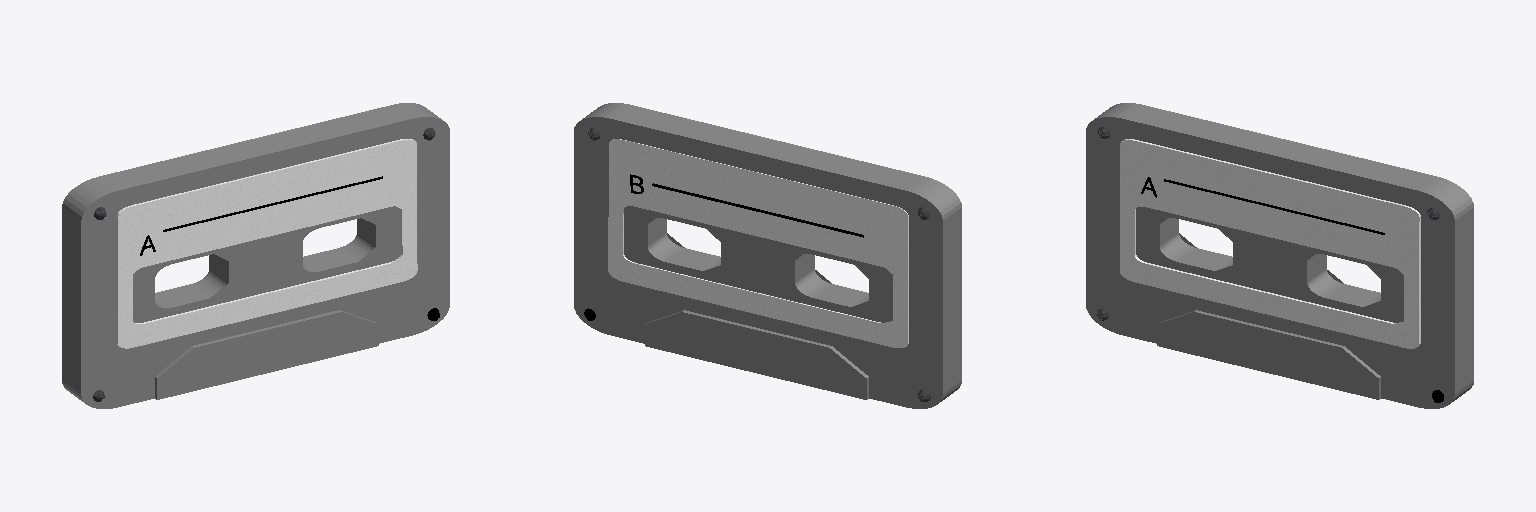
The picture shows the model from 3 angles: view 1: azimuth 30°, elevation 25°; view 2: azimuth 150°, elevation 25°; view 3: azimuth 330°, elevation 25°; orthographic projection.
Visible parts, largest first — view 1: 010_Box_1_-_baked, 004_Box_-_baked, 002_3D_Text_2_-_-_-_baked; view 2: 010_Box_1_-_baked, 005_Box_-_baked_1, 001_3D_Text_2_-_-_-_baked_1; view 3: 010_Box_1_-_baked, 004_Box_-_baked, 002_3D_Text_2_-_-_-_baked.
Part boxes in pixels (x1,y1,x2,y2): 010_Box_1_-_baked: (62, 103, 449, 408); 004_Box_-_baked: (117, 139, 417, 348); 002_3D_Text_2_-_-_-_baked: (163, 176, 382, 231); 010_Box_1_-_baked: (574, 103, 961, 408); 005_Box_-_baked_1: (608, 139, 908, 347); 001_3D_Text_2_-_-_-_baked_1: (652, 183, 863, 237); 010_Box_1_-_baked: (1086, 103, 1473, 408); 004_Box_-_baked: (1120, 139, 1420, 348); 002_3D_Text_2_-_-_-_baked: (1164, 179, 1384, 234).
Bounding box in the file's own units: 363 × 204 × 46.3.
11 materials, 2 textured.